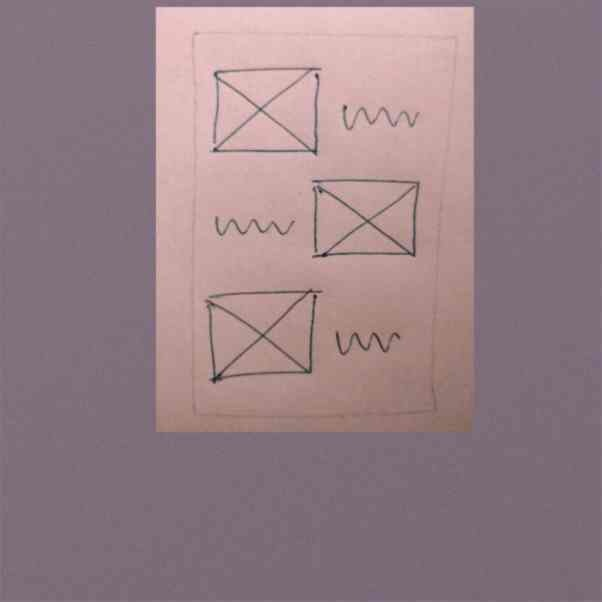image: (202, 287, 323, 388), (209, 59, 322, 159), (306, 175, 424, 263)
text: (336, 96, 425, 141), (210, 208, 301, 247), (329, 322, 406, 362)
